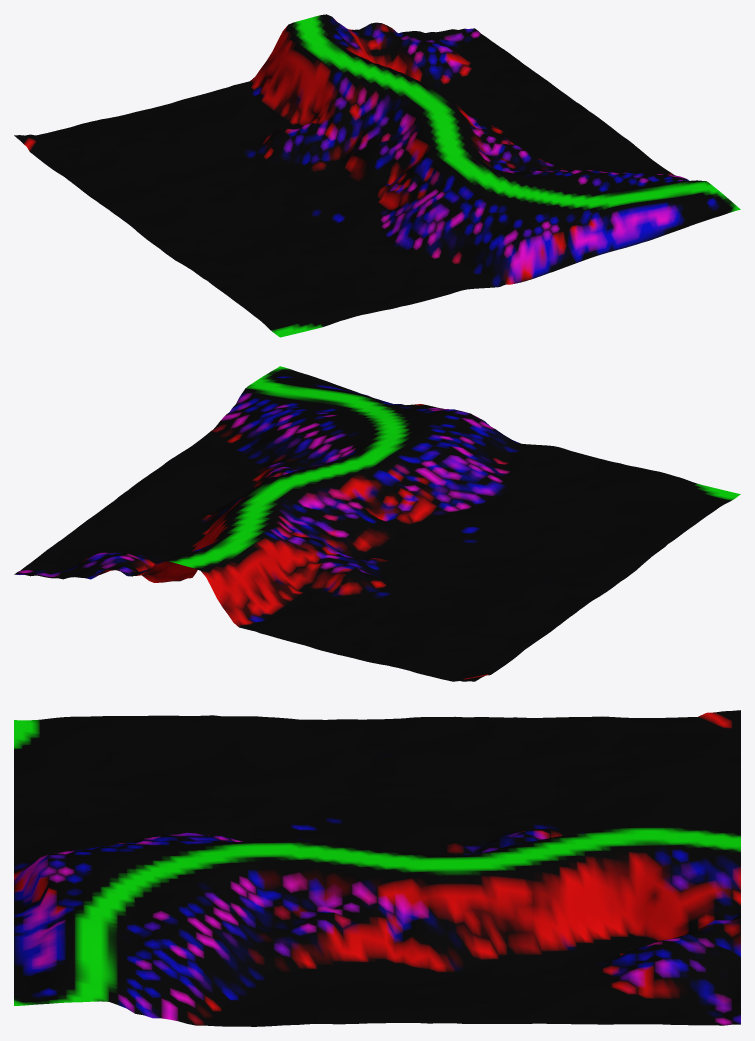
The model's file is SM_AsirMountains_Terrain_1_2.fbx.
3 views of the same model, one above another, from view 1: azimuth 30°, elevation 25°; view 2: azimuth 150°, elevation 25°; view 3: azimuth 270°, elevation 25° (orthographic). The views are drawn at different scales.
Visible parts, largest first — view 1: SM_AsirMountains_Terrain_1_2; view 2: SM_AsirMountains_Terrain_1_2; view 3: SM_AsirMountains_Terrain_1_2.
Boxes of the visible parts, x1=… form: SM_AsirMountains_Terrain_1_2: x1=14, y1=14, x2=740, y2=337; SM_AsirMountains_Terrain_1_2: x1=14, y1=366, x2=740, y2=681; SM_AsirMountains_Terrain_1_2: x1=14, y1=710, x2=740, y2=1026.
Size of the model in its own units: 50400 by 5903 by 50400.
